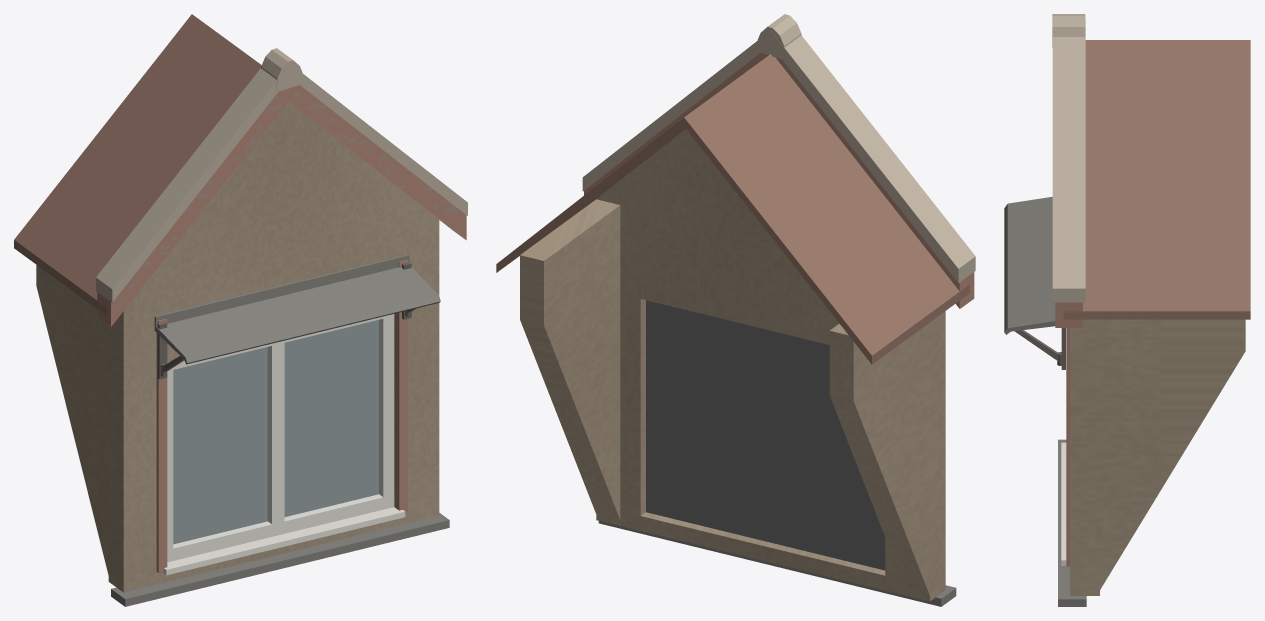
The model's file is lintong-dormer-far.glb.
The picture shows the model from 3 angles, left to right: view 1: azimuth 30°, elevation 25°; view 2: azimuth 150°, elevation 25°; view 3: azimuth 270°, elevation 25°; orthographic projection. The views are drawn at different scales.
Parts seen in each view (by area): view 1: 临潼路99弄住宅三角檐老虎窗与挑篷; view 2: 临潼路99弄住宅三角檐老虎窗与挑篷; view 3: 临潼路99弄住宅三角檐老虎窗与挑篷.
Boxes of the visible parts, box(x1,y1,x2,y2) form: 临潼路99弄住宅三角檐老虎窗与挑篷: box(14, 14, 467, 606); 临潼路99弄住宅三角檐老虎窗与挑篷: box(496, 14, 975, 606); 临潼路99弄住宅三角檐老虎窗与挑篷: box(1004, 14, 1250, 606).
Size of the model in its own units: 2.5 by 3.42 by 1.49.
Materials: 11 (1 with a texture image).
